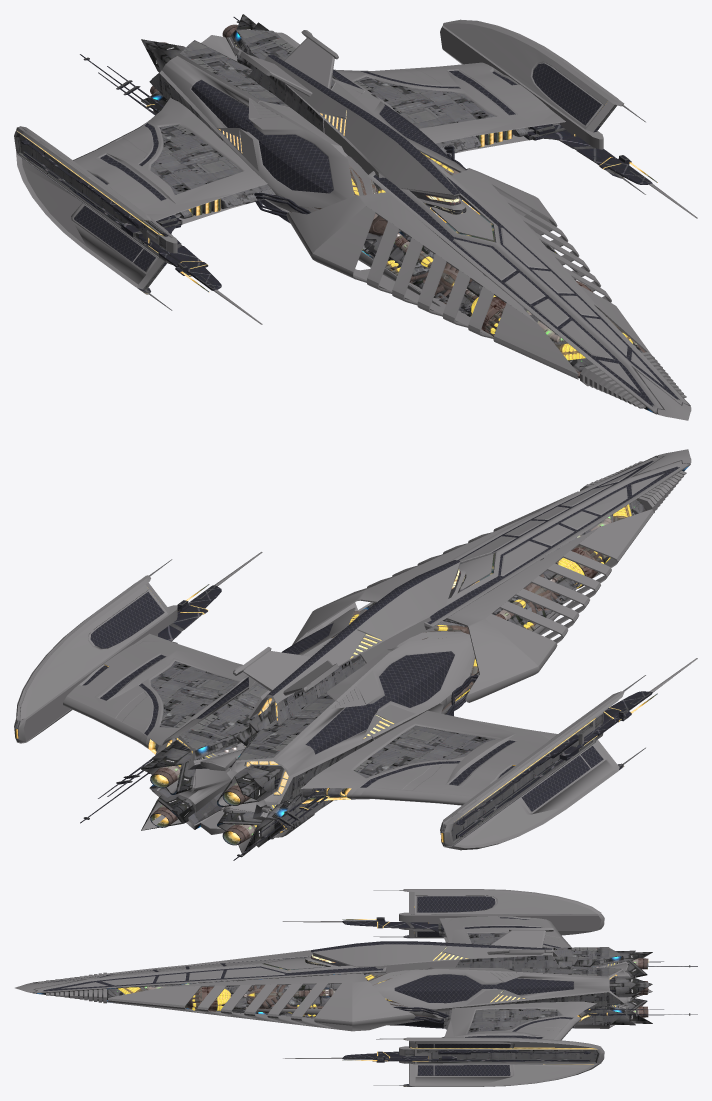
3 views of the same model, one above another, from view 1: azimuth 30°, elevation 25°; view 2: azimuth 150°, elevation 25°; view 3: azimuth 270°, elevation 25° (orthographic). The views are drawn at different scales.
Parts seen in each view (by area): view 1: Mesh_0010_Tex_0016_0.dds_0, Mesh_0011_Tex_0020_0.dds_0, Mesh_0023_Tex_0030_0.dds_0, Mesh_0014_Tex_0030_0.dds_0, Mesh_0020_Tex_0020_0.dds_0, Mesh_0017_Tex_0038_0.dds_0, Mesh_0015_Tex_0032_0.dds_0, Mesh_0024_Tex_0036_0.dds_0, Mesh_0027_Tex_0023_0.dds_0; view 2: Mesh_0010_Tex_0016_0.dds_0, Mesh_0011_Tex_0020_0.dds_0, Mesh_0023_Tex_0030_0.dds_0, Mesh_0014_Tex_0030_0.dds_0, Mesh_0015_Tex_0032_0.dds_0, Mesh_0020_Tex_0020_0.dds_0, Mesh_0017_Tex_0038_0.dds_0, Mesh_0012_Tex_0023_0.dds_0, Mesh_0024_Tex_0036_0.dds_0, Mesh_0013_Tex_0028_0.dds_0, Mesh_0027_Tex_0023_0.dds_0; view 3: Mesh_0010_Tex_0016_0.dds_0, Mesh_0011_Tex_0020_0.dds_0, Mesh_0014_Tex_0030_0.dds_0, Mesh_0015_Tex_0032_0.dds_0, Mesh_0023_Tex_0030_0.dds_0, Mesh_0020_Tex_0020_0.dds_0, Mesh_0017_Tex_0038_0.dds_0, Mesh_0024_Tex_0036_0.dds_0, Mesh_0027_Tex_0023_0.dds_0, Mesh_0012_Tex_0023_0.dds_0.
Part boxes in pixels (x1=…): Mesh_0010_Tex_0016_0.dds_0: x1=14, y1=19, x2=697, y2=420; Mesh_0011_Tex_0020_0.dds_0: x1=74, y1=54, x2=679, y2=406; Mesh_0023_Tex_0030_0.dds_0: x1=19, y1=76, x2=621, y2=292; Mesh_0014_Tex_0030_0.dds_0: x1=149, y1=29, x2=592, y2=371; Mesh_0020_Tex_0020_0.dds_0: x1=16, y1=17, x2=652, y2=292; Mesh_0017_Tex_0038_0.dds_0: x1=150, y1=24, x2=645, y2=376; Mesh_0015_Tex_0032_0.dds_0: x1=141, y1=14, x2=652, y2=412; Mesh_0024_Tex_0036_0.dds_0: x1=15, y1=20, x2=650, y2=292; Mesh_0027_Tex_0023_0.dds_0: x1=17, y1=104, x2=621, y2=275; Mesh_0010_Tex_0016_0.dds_0: x1=14, y1=449, x2=697, y2=853; Mesh_0011_Tex_0020_0.dds_0: x1=83, y1=460, x2=679, y2=845; Mesh_0023_Tex_0030_0.dds_0: x1=150, y1=661, x2=628, y2=841; Mesh_0014_Tex_0030_0.dds_0: x1=15, y1=500, x2=646, y2=846; Mesh_0015_Tex_0032_0.dds_0: x1=141, y1=466, x2=688, y2=855; Mesh_0020_Tex_0020_0.dds_0: x1=80, y1=585, x2=652, y2=860; Mesh_0017_Tex_0038_0.dds_0: x1=151, y1=504, x2=646, y2=844; Mesh_0012_Tex_0023_0.dds_0: x1=15, y1=553, x2=657, y2=844; Mesh_0024_Tex_0036_0.dds_0: x1=20, y1=585, x2=651, y2=856; Mesh_0013_Tex_0028_0.dds_0: x1=159, y1=455, x2=689, y2=824; Mesh_0027_Tex_0023_0.dds_0: x1=104, y1=605, x2=630, y2=816; Mesh_0010_Tex_0016_0.dds_0: x1=15, y1=889, x2=652, y2=1086; Mesh_0011_Tex_0020_0.dds_0: x1=43, y1=896, x2=648, y2=1075; Mesh_0014_Tex_0030_0.dds_0: x1=59, y1=914, x2=623, y2=1052; Mesh_0015_Tex_0032_0.dds_0: x1=37, y1=950, x2=652, y2=1025; Mesh_0023_Tex_0030_0.dds_0: x1=377, y1=932, x2=597, y2=1085; Mesh_0020_Tex_0020_0.dds_0: x1=342, y1=917, x2=697, y2=1086; Mesh_0017_Tex_0038_0.dds_0: x1=118, y1=958, x2=648, y2=1017; Mesh_0024_Tex_0036_0.dds_0: x1=344, y1=895, x2=690, y2=1085; Mesh_0027_Tex_0023_0.dds_0: x1=373, y1=906, x2=607, y2=1064; Mesh_0012_Tex_0023_0.dds_0: x1=264, y1=919, x2=648, y2=1060.
Bounding box in the file's own units: 2.64 × 0.6567 × 5.02.
19 materials, 19 textured.
